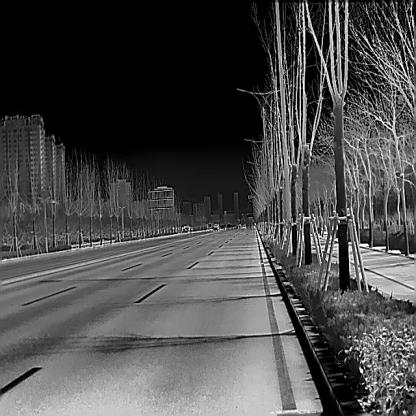car: (212, 223, 218, 230), (220, 224, 226, 230), (240, 223, 246, 228), (226, 224, 230, 229)
